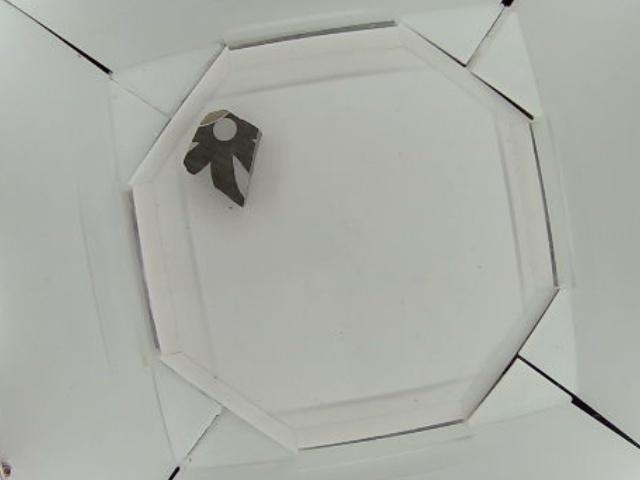China: (185, 111, 260, 207)
